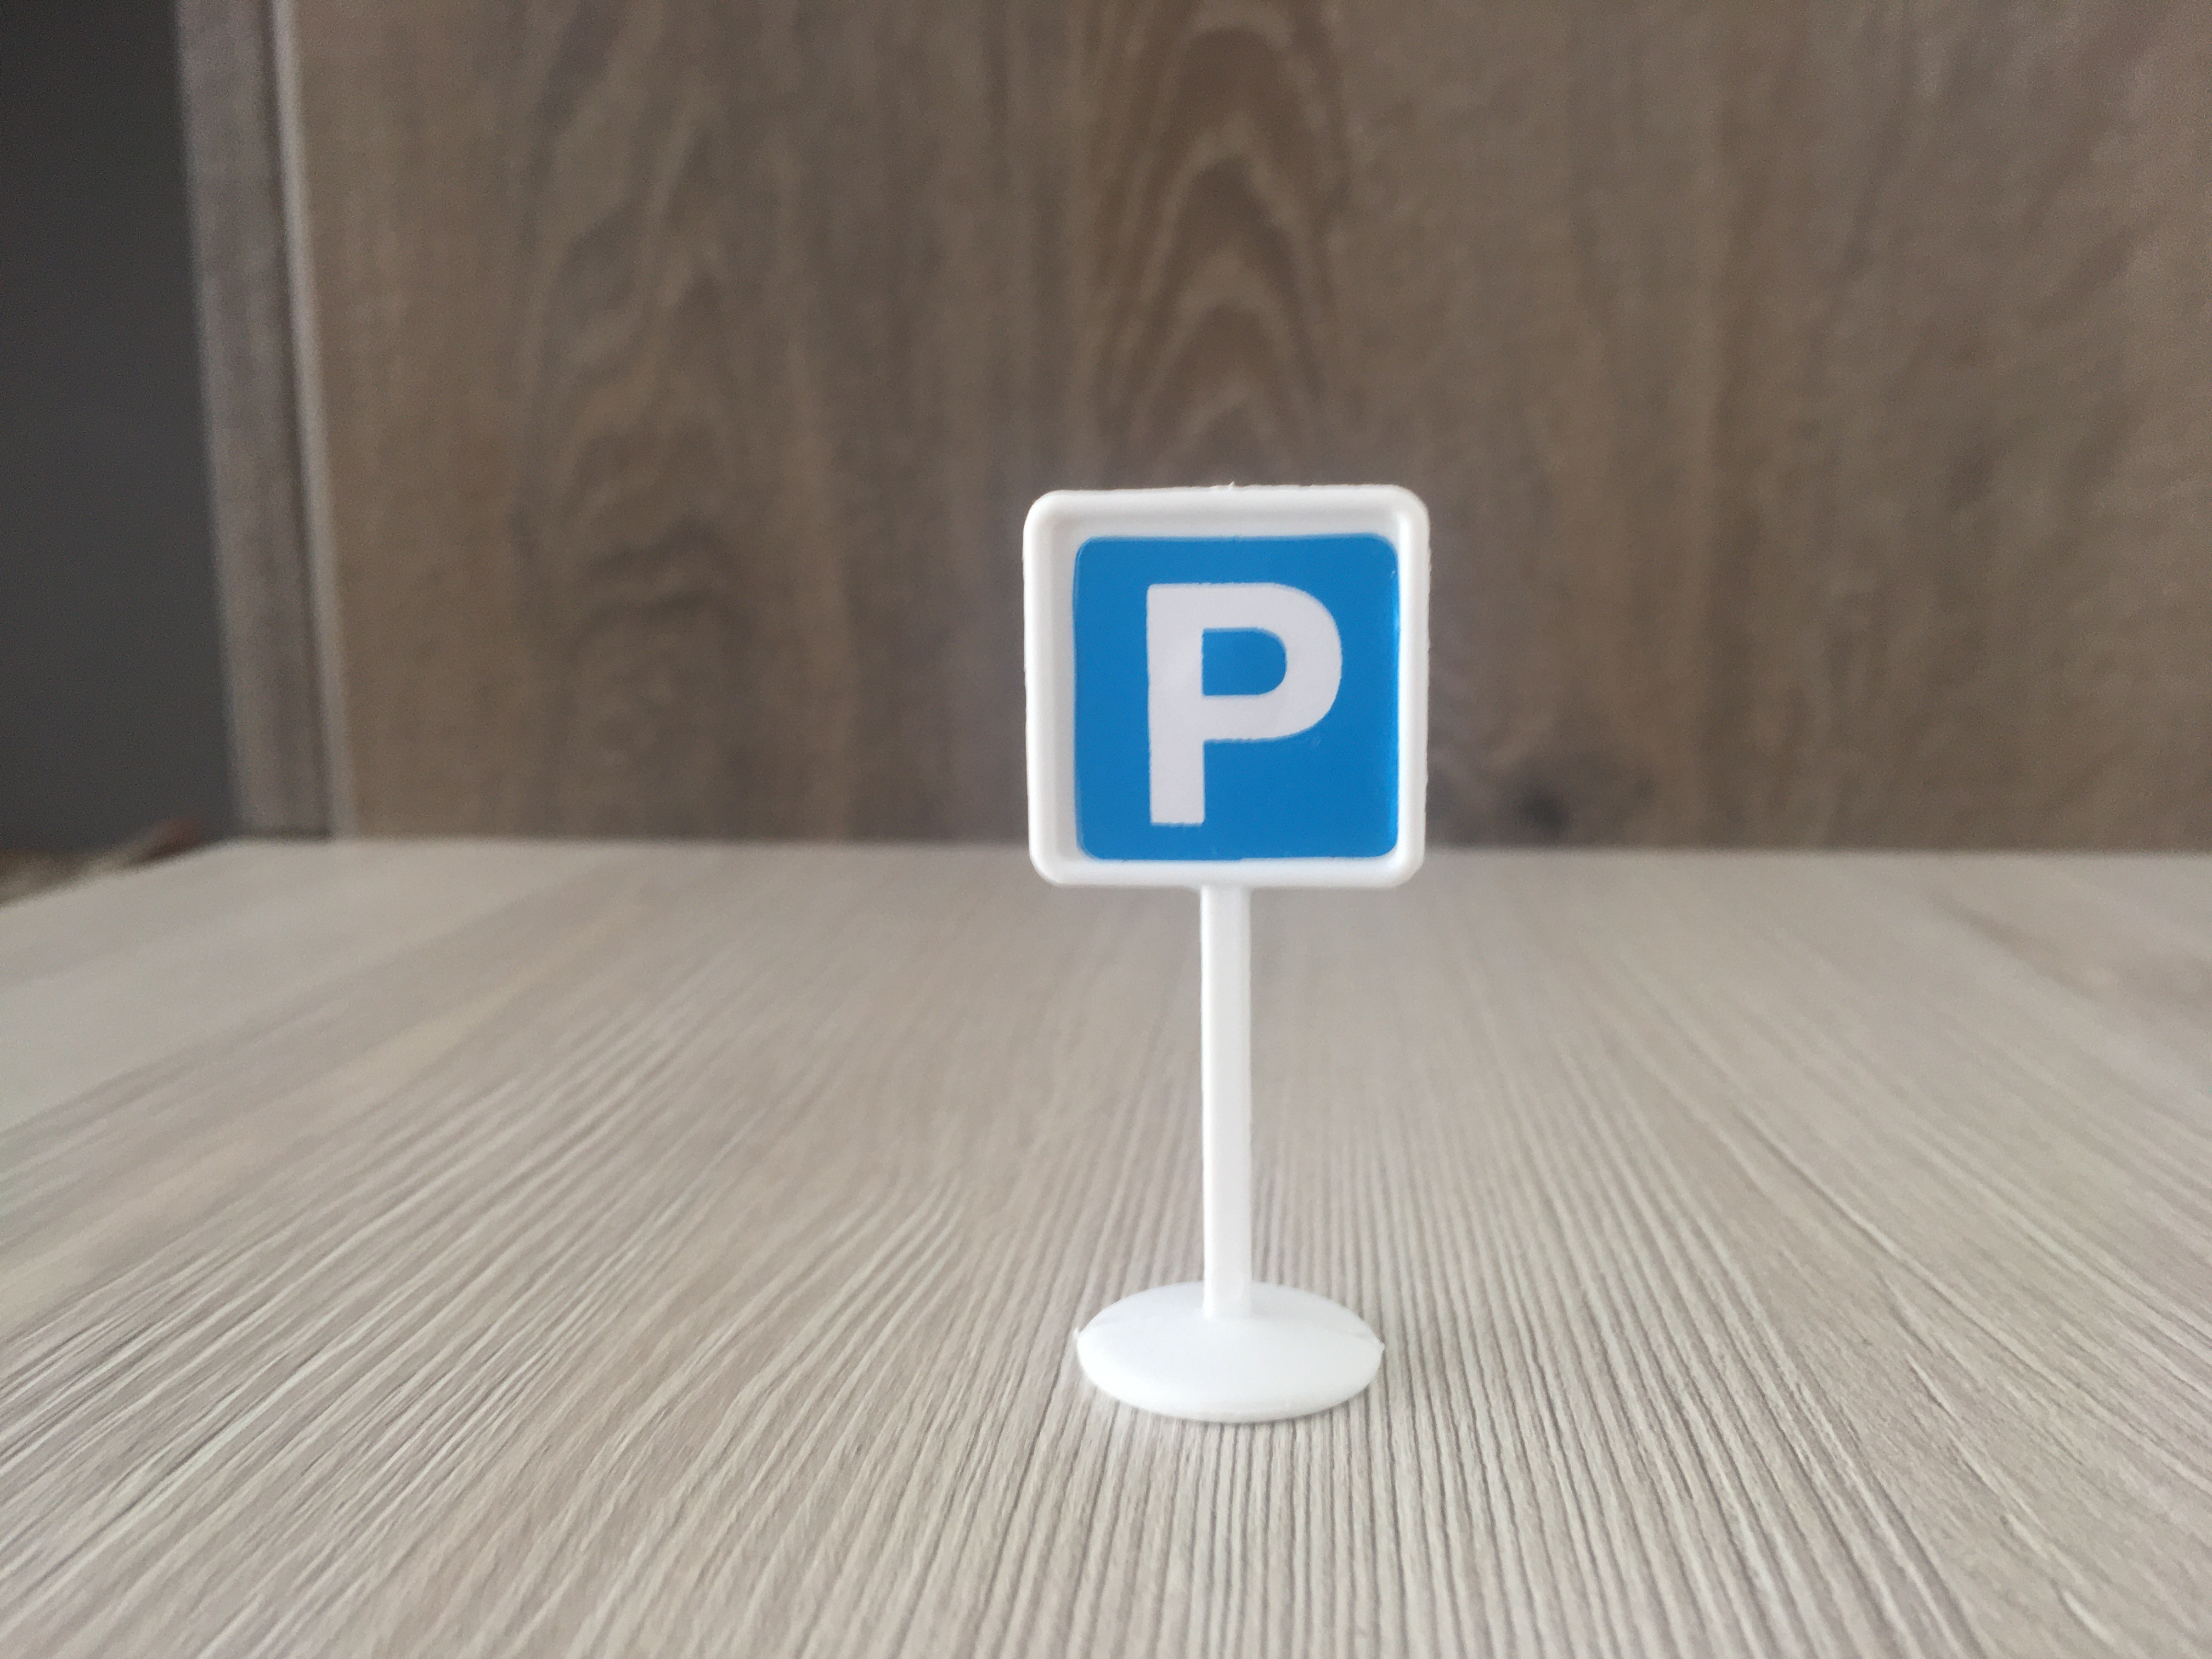parking: (1019, 486, 1446, 894)
